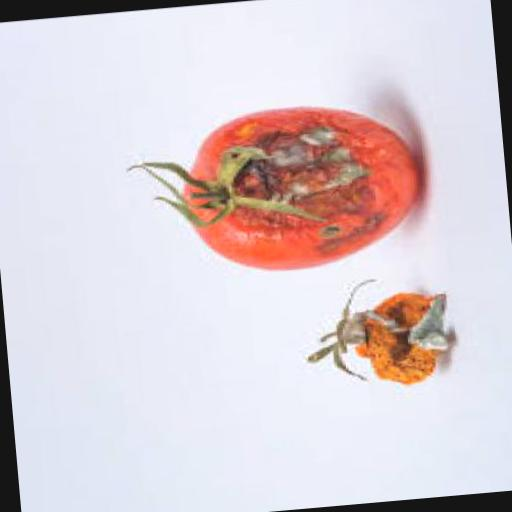biodegradable: (120, 98, 426, 284), (296, 272, 457, 397)
